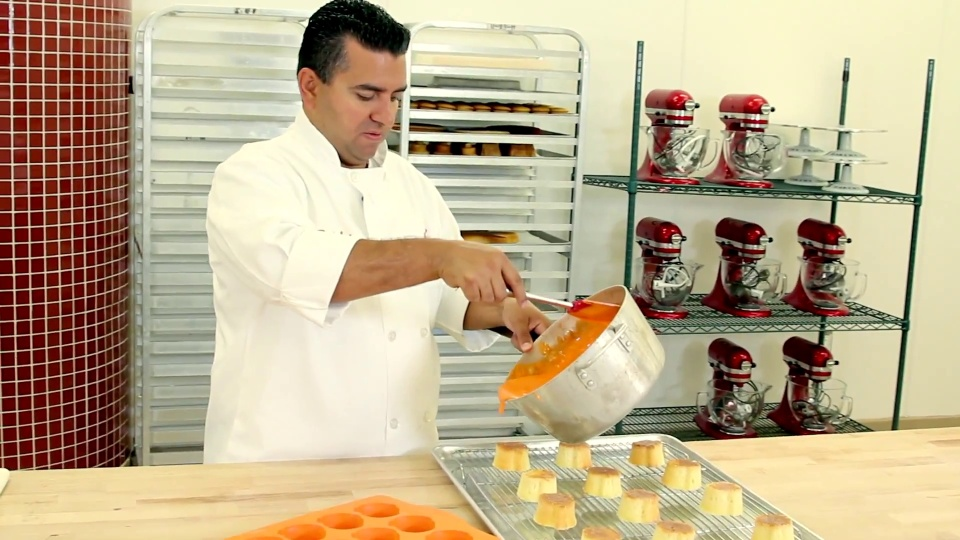person: (212, 7, 566, 458)
